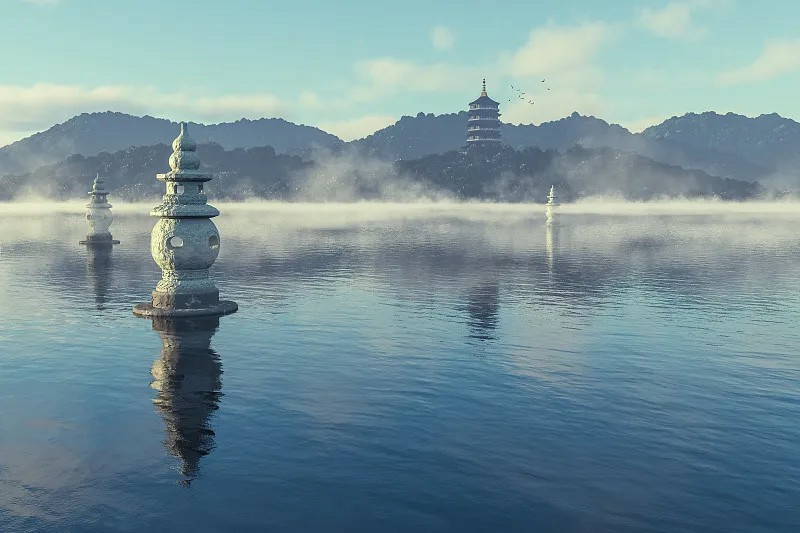Leifeng: (465, 77, 503, 148)
